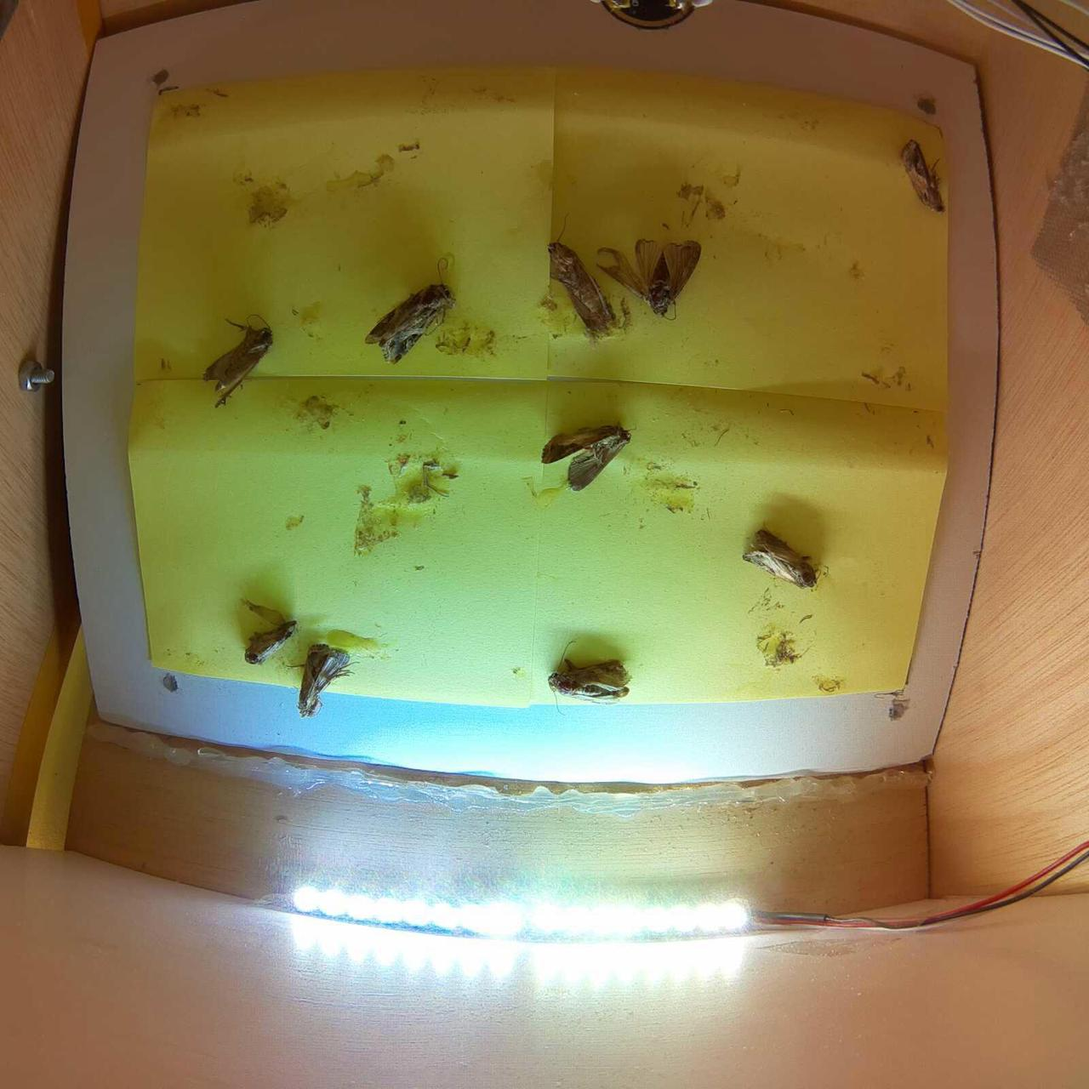Spodoptera litura: (366, 258, 456, 363), (595, 237, 702, 319), (550, 214, 620, 334), (548, 640, 632, 715), (205, 316, 273, 408), (543, 423, 631, 493), (743, 527, 825, 590), (296, 643, 358, 718), (901, 140, 946, 214), (245, 619, 298, 665)
